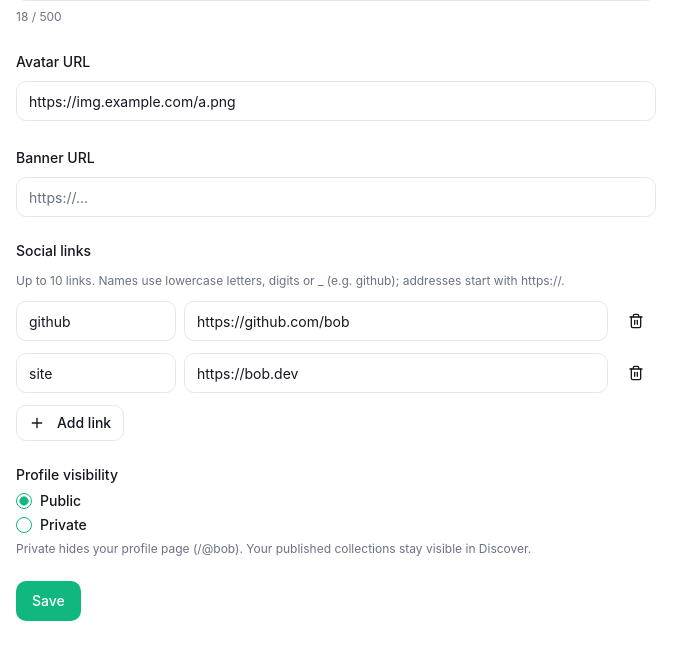
Test case: server errors › 9: a socialLinks.<label> message is shown on that row's URL
(page scrolled)
Click the button "Save": (48, 601) [16, 581, 81, 621]
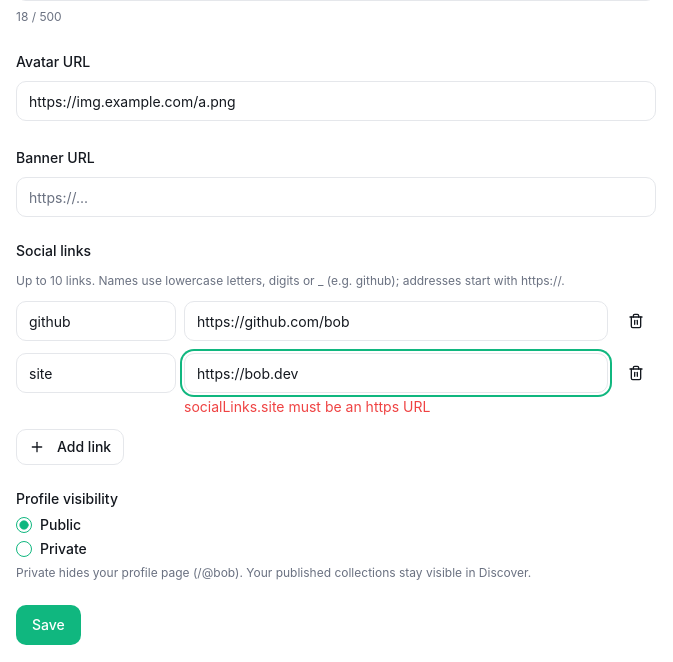
Result: the text "socialLinks.site must be an https URL" is shown at [184, 398, 430, 415]
